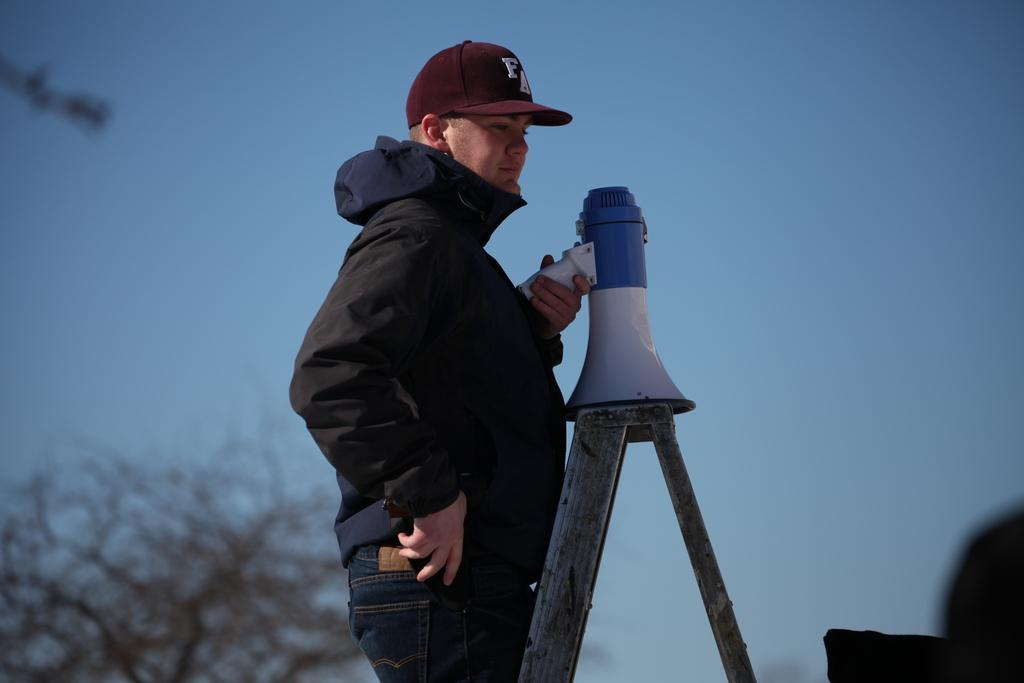Hat: (406, 42, 570, 127)
